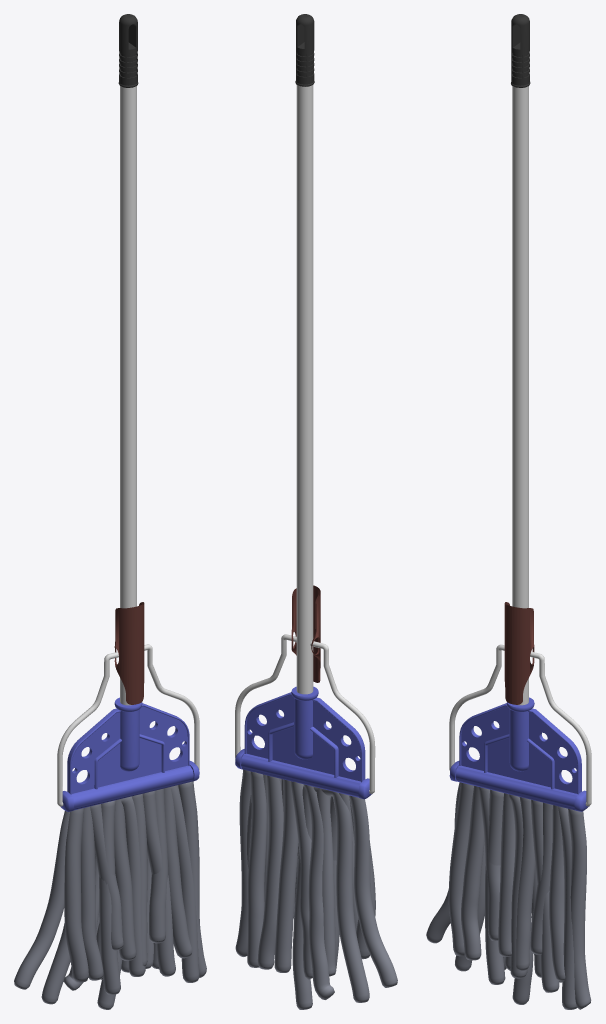
Rendered from mop.fbx.
3 views of the same model, side by side, from view 1: azimuth 30°, elevation 25°; view 2: azimuth 150°, elevation 25°; view 3: azimuth 330°, elevation 25° (orthographic).
Visible parts, largest first — view 1: PM3D_Cube3D_1, Mesh42Component_22_1Component_41_1ModelShape2, Mesh41Component_31_1Component_23_1Component_41_1ModelShape1, Mesh35Component_32_2Component_24_1Component_41_1ModelShape2; view 2: PM3D_Cube3D_1, Mesh42Component_22_1Component_41_1ModelShape2, Mesh41Component_31_1Component_23_1Component_41_1ModelShape1, Mesh35Component_32_2Component_24_1Component_41_1ModelShape2; view 3: PM3D_Cube3D_1, Mesh42Component_22_1Component_41_1ModelShape2, Mesh41Component_31_1Component_23_1Component_41_1ModelShape1, Mesh35Component_32_2Component_24_1Component_41_1ModelShape2.
Boxes of the visible parts, bbox=[...] form: PM3D_Cube3D_1: bbox=[14, 781, 206, 1009]; Mesh42Component_22_1Component_41_1ModelShape2: bbox=[114, 14, 144, 705]; Mesh41Component_31_1Component_23_1Component_41_1ModelShape1: bbox=[60, 697, 199, 811]; Mesh35Component_32_2Component_24_1Component_41_1ModelShape2: bbox=[57, 644, 199, 806]; PM3D_Cube3D_1: bbox=[235, 769, 397, 1009]; Mesh42Component_22_1Component_41_1ModelShape2: bbox=[291, 14, 320, 694]; Mesh41Component_31_1Component_23_1Component_41_1ModelShape1: bbox=[235, 686, 371, 799]; Mesh35Component_32_2Component_24_1Component_41_1ModelShape2: bbox=[235, 634, 375, 793]; PM3D_Cube3D_1: bbox=[426, 782, 591, 1009]; Mesh42Component_22_1Component_41_1ModelShape2: bbox=[504, 14, 534, 705]; Mesh41Component_31_1Component_23_1Component_41_1ModelShape1: bbox=[449, 697, 589, 811]; Mesh35Component_32_2Component_24_1Component_41_1ModelShape2: bbox=[449, 644, 591, 806].
Size of the model in its own units: 13.21 by 71.39 by 4.29.
